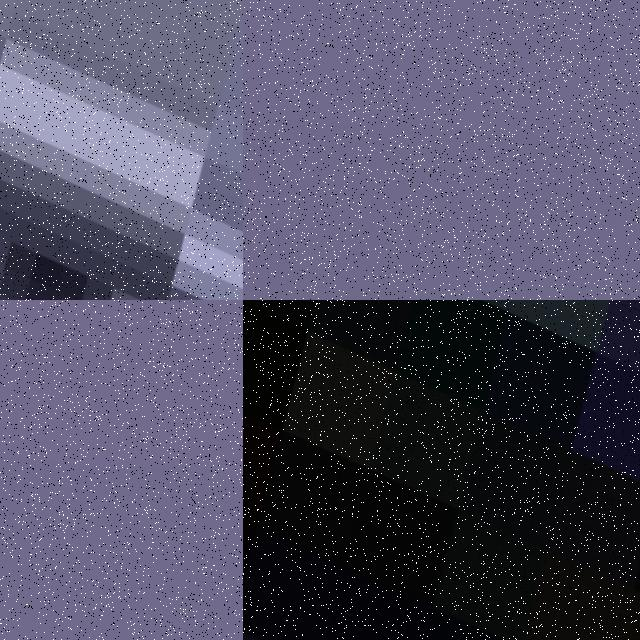drone: (243, 300, 640, 640), (0, 0, 243, 300)
